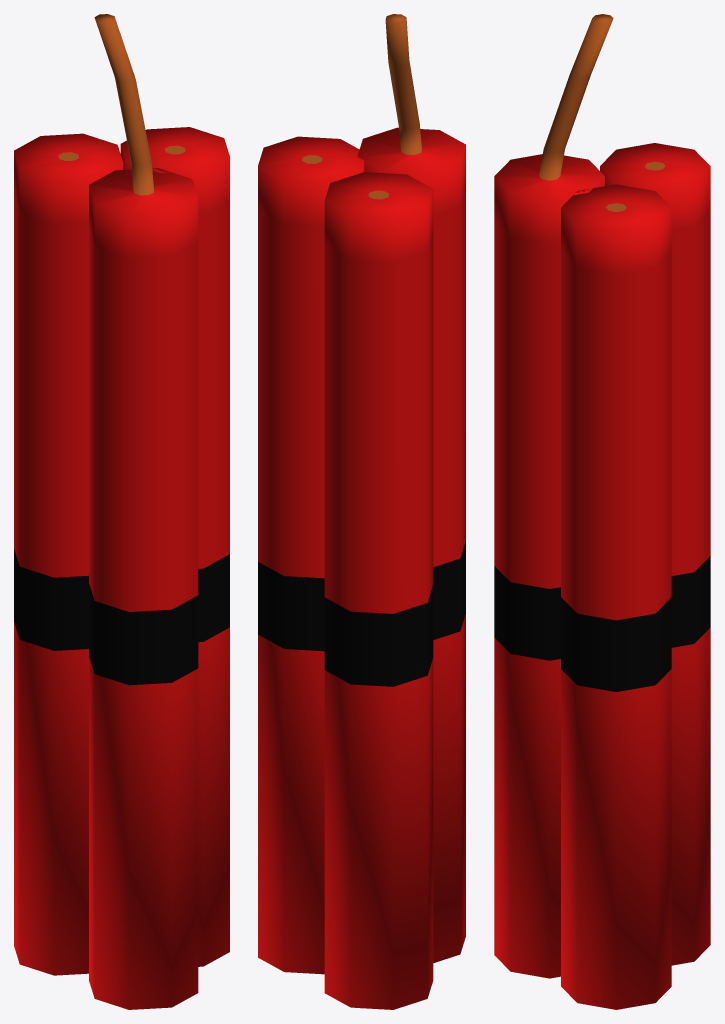
Rendered from bom.FBX.
3 views of the same model, side by side, from view 1: azimuth 30°, elevation 25°; view 2: azimuth 150°, elevation 25°; view 3: azimuth 270°, elevation 25° (orthographic). The views are drawn at different scales.
Visible parts, largest first — view 1: Cylinder007; view 2: Cylinder007; view 3: Cylinder007.
Part boxes in pixels (box(x1,y1,x2,y2)): Cylinder007: box(14, 14, 229, 1009); Cylinder007: box(258, 14, 465, 1009); Cylinder007: box(494, 14, 710, 1009).
Size of the model in its own units: 26.98 by 133 by 27.96.
